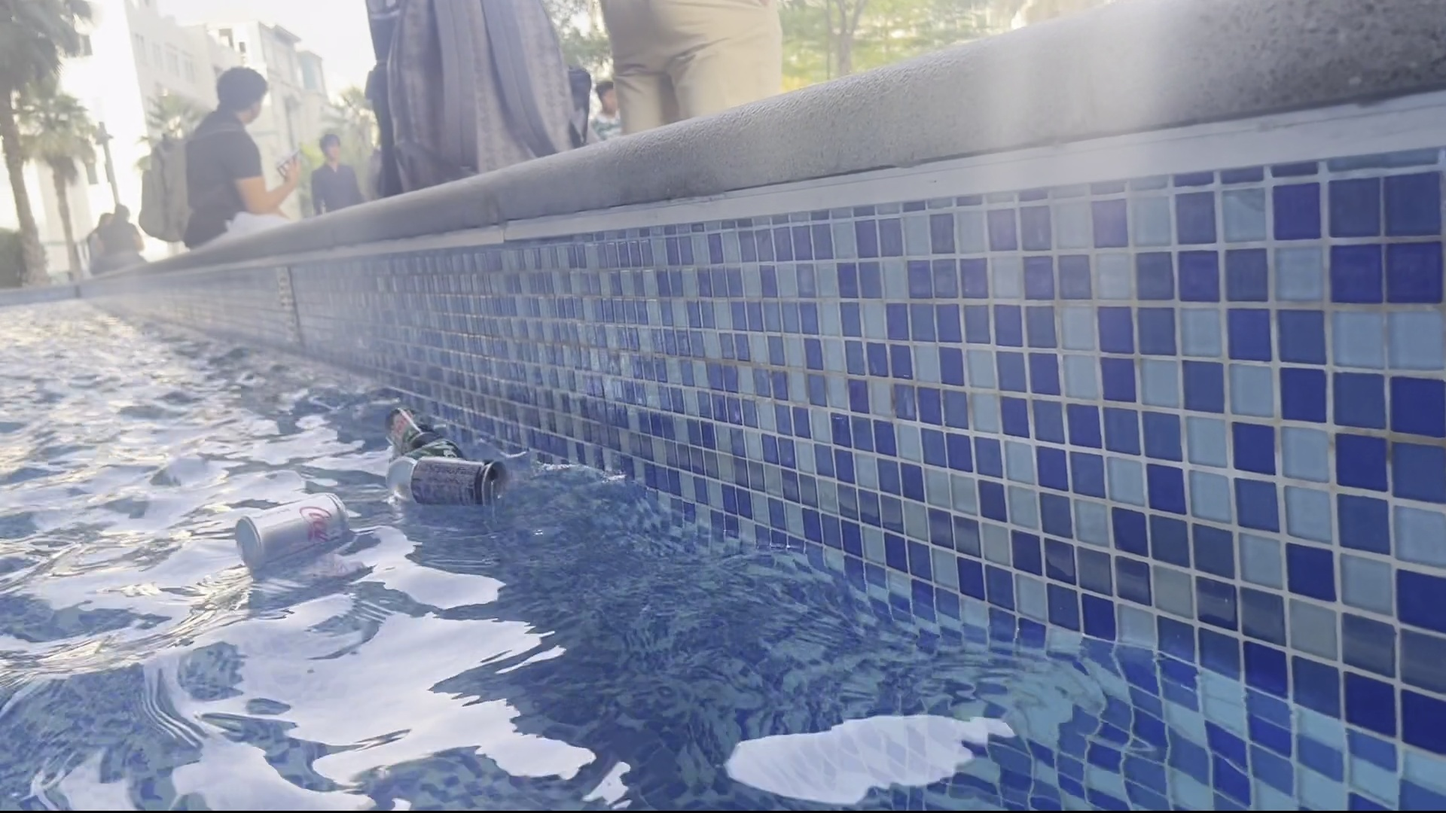debris: (223, 489, 357, 572), (406, 451, 514, 516), (382, 430, 465, 502), (374, 404, 439, 452)
